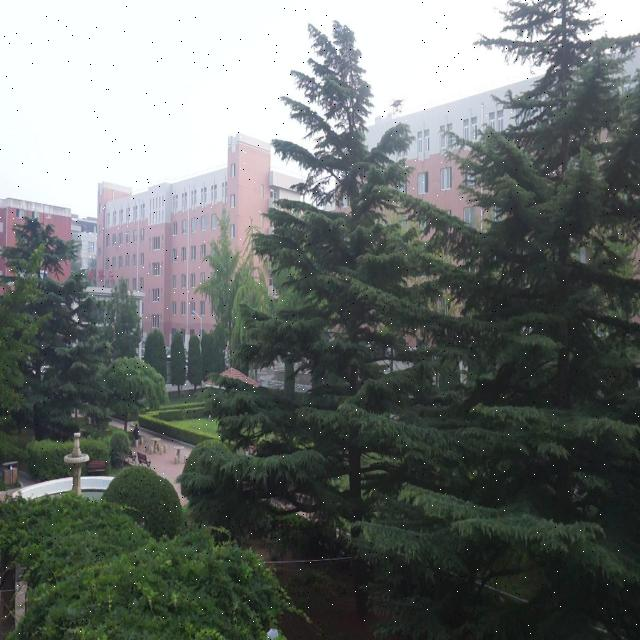UAV: (388, 95, 408, 115)
